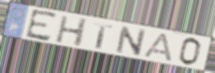0: (178, 38, 203, 66)
A: (142, 32, 173, 63)
E: (24, 8, 59, 43)
H: (54, 14, 89, 48)
N: (115, 24, 148, 57)
T: (93, 22, 114, 50)
